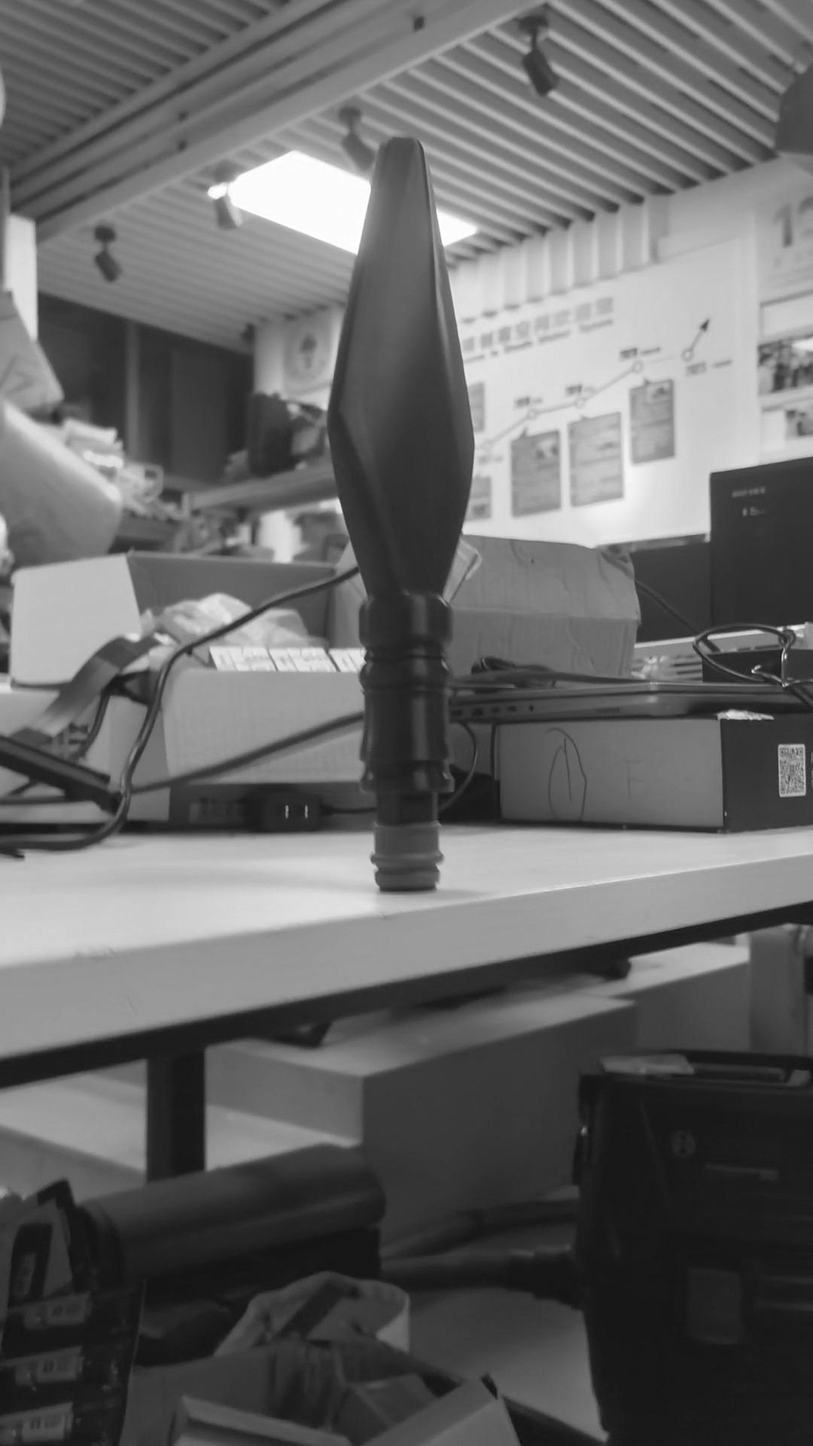base: (374, 806, 448, 897)
